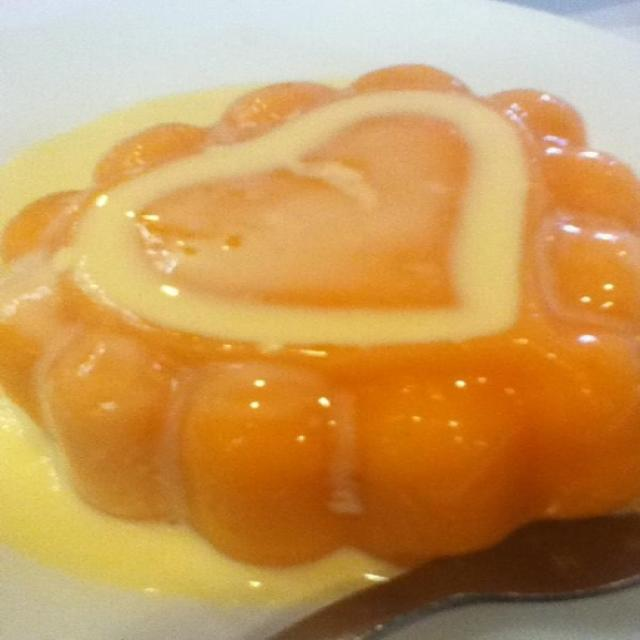蛋糕甜品: (6, 4, 637, 618)
